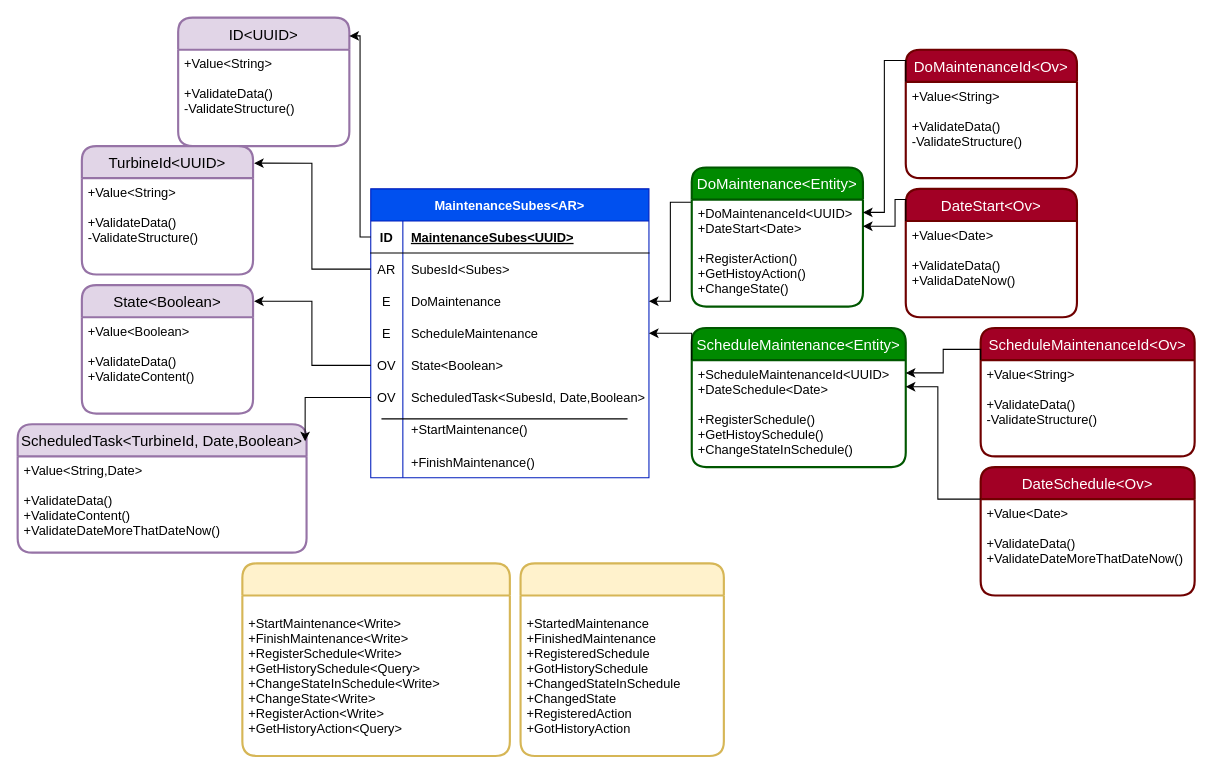
The diagram is 1212 pixels wide and 774 high, and some of its shapes have lost their labels. Here are the shapes that lost their labels. From the top down, the box of each, then its label:
(241, 562, 510, 756): Actions
(519, 562, 724, 756): Events
